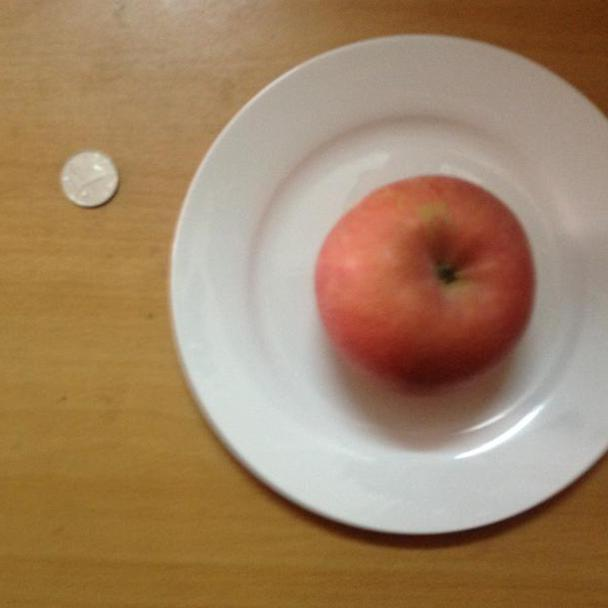apple: (313, 171, 543, 393)
